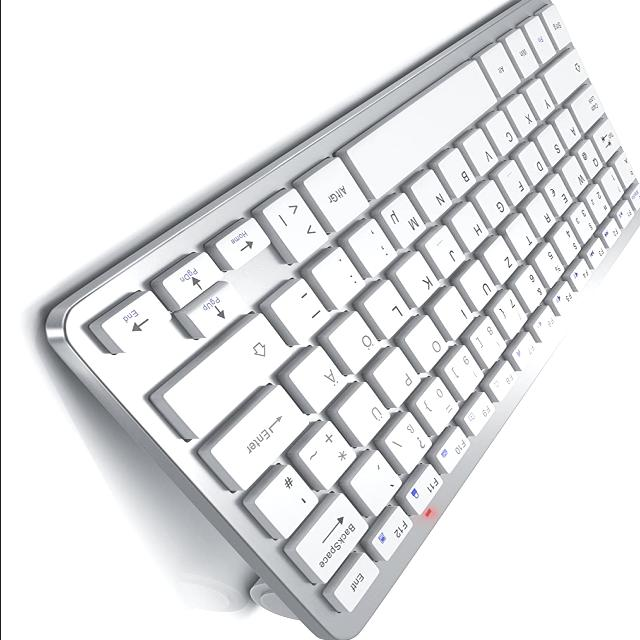0: (416, 376, 459, 437)
1: (600, 167, 627, 205)
2: (586, 183, 612, 222)
3: (569, 202, 597, 244)
4: (552, 221, 582, 265)
5: (535, 242, 566, 287)
6: (515, 265, 547, 313)
7: (492, 289, 528, 341)
8: (469, 314, 508, 370)
9: (444, 344, 485, 402)
a: (554, 108, 582, 148)
accent: (350, 449, 403, 519)
ae: (287, 345, 347, 416)
alt-left: (480, 42, 521, 96)
altgr-right: (297, 156, 371, 234)
b: (438, 147, 477, 197)
c: (485, 110, 518, 157)
caret: (614, 150, 636, 188)
comma: (346, 216, 398, 278)
d: (518, 143, 548, 185)
del: (284, 492, 369, 586)
e: (544, 173, 573, 216)
enter: (199, 382, 311, 494)
f: (499, 160, 531, 204)
g: (476, 180, 510, 228)
h: (450, 201, 490, 253)
hash: (253, 464, 318, 538)
i: (432, 286, 474, 342)
j: (424, 225, 465, 279)
k: (395, 250, 439, 309)
keyboard: (42, 0, 640, 640)
l: (363, 280, 414, 340)
less: (261, 187, 329, 265)
m: (378, 192, 426, 249)
minus: (272, 279, 330, 345)
n: (410, 170, 452, 222)
o: (404, 314, 449, 374)
oe: (328, 310, 382, 376)
p: (373, 345, 421, 409)
plus: (295, 419, 357, 492)
point: (312, 247, 365, 309)
q: (577, 139, 603, 178)
r: (525, 193, 557, 237)
s: (537, 125, 566, 167)
shift-left: (543, 47, 589, 104)
shift-lock: (570, 83, 606, 133)
shift-right: (163, 313, 291, 439)
space: (346, 60, 498, 200)
ss: (383, 411, 431, 476)
strg-left: (540, 2, 572, 50)
t: (504, 212, 538, 260)
tab: (593, 118, 621, 162)
u: (459, 259, 497, 312)
ue: (336, 380, 392, 447)
v: (461, 128, 499, 178)
w: (561, 156, 590, 198)
x: (506, 94, 538, 138)
y: (525, 79, 557, 121)
z: (482, 235, 520, 285)
